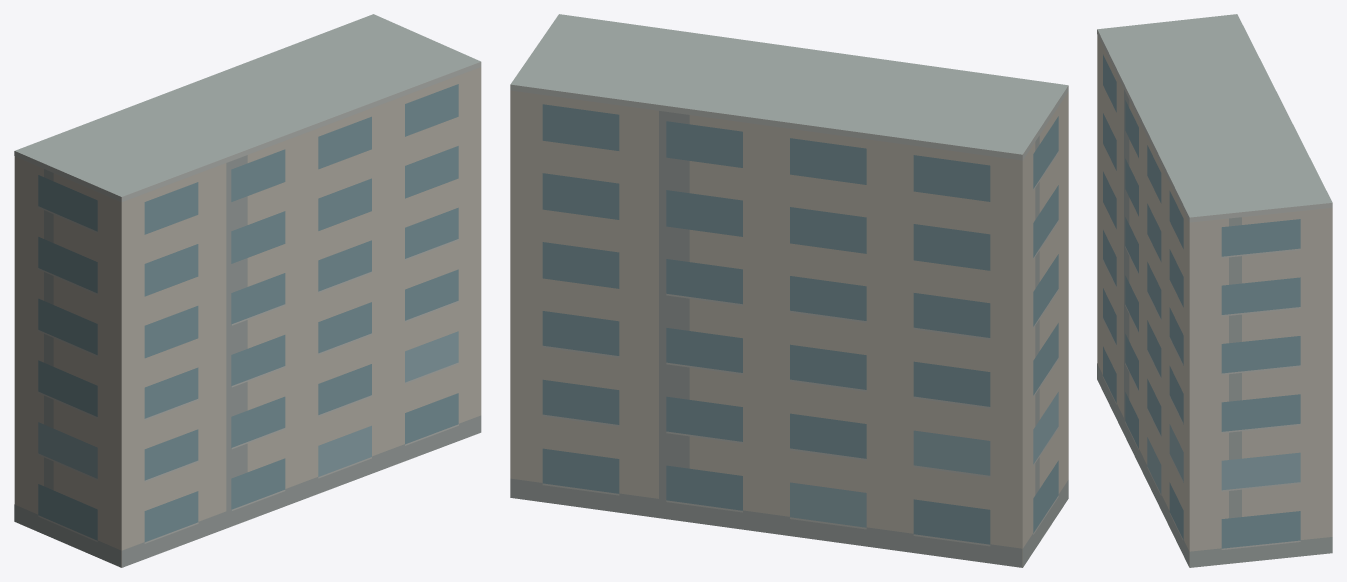
Rendered from survey-upis-32569777.glb.
The picture shows the model from 3 angles, left to right: view 1: azimuth 30°, elevation 25°; view 2: azimuth 150°, elevation 25°; view 3: azimuth 270°, elevation 25°; orthographic projection. The views are drawn at different scales.
Visible parts, largest first — view 1: survey-upis-32569777.tmp; view 2: survey-upis-32569777.tmp; view 3: survey-upis-32569777.tmp.
Boxes of the visible parts, <box> form: survey-upis-32569777.tmp: <box>14,14,481,567</box>; survey-upis-32569777.tmp: <box>510,14,1068,567</box>; survey-upis-32569777.tmp: <box>1097,14,1332,567</box>.
Size of the model in its own units: 21.32 by 17.1 by 10.43.
